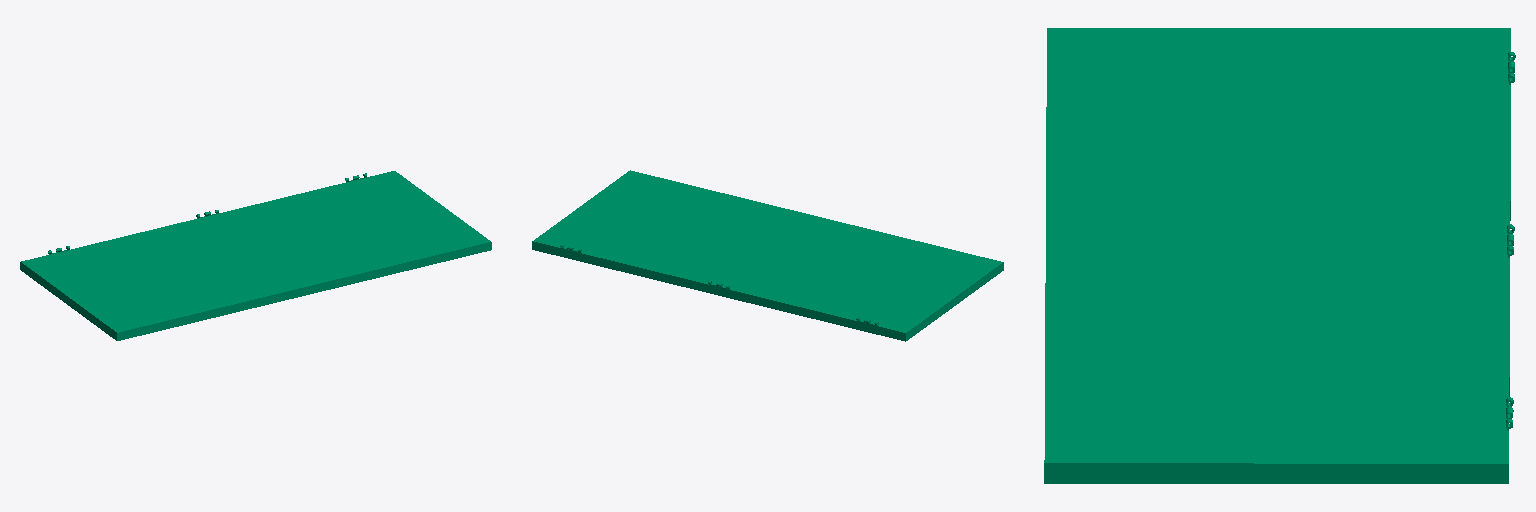
The robot description file, URDF, robot "door_test":
<robot name = 'door_test' xmlns:xacro="http://ros.org/wiki/xacro">
    <!-- <link name = 'world'/> -->
    
    <!-- <joint name = 'world2base' type = 'fixed'>
        <parent link = 'world'/>
        <child link = 'base_link'/>
    </joint> -->

    <link name = 'base_link'/>
        
    <joint name = 'base_joint' type = 'fixed'>
        <parent link = 'base_link'/>
        <origin xyz = '0 0.5 0.0' rpy='0 0 3.14'/>
        <!-- if move y : the door will slide -->
        <child link = 'door_frame'/>
    </joint>

    <link name = 'door_frame'>
        <visual>
            <geometry>
                <mesh filename = './meshes/frame.dae'/>
            </geometry>
            <origin xyz = '0.5 0 0' rpy = '1.57 0 0'/>
            <!-- <color rgba = '0.5 0.5 0.5 1.0'/> -->
        </visual>
        <!-- <collision name = "door frame_collision">
            <geometry>
                <mesh filename = './meshes/frame.dae'/>
                <origin xyz = '0.5 0 0' rpy = '1.57 0 0'/>
            </geometry>
        </collision> -->
        <collision name="side_1_:hinge_side">
            <geometry>
                <box size = '0.05029 0.06858 2.10820'/>
            </geometry>
            <origin xyz = '0.48 0.02 1.05' rpy = '0 0 0'/>
        </collision>
        <collision name="side_2">
            <geometry>
                <box size = '0.05029 0.06858 2.10820'/>
            </geometry>
            <origin xyz="0.48 1.02 1.05" rpy="0 0 0"/>
        </collision>
        <collision name="top">
            <geometry>
                <box size = '0.05029 0.92964 0.07366'/>
            </geometry>
            <origin xyz="0.48 0.52 2.05820" rpy="0 0 0"/>
        </collision>
        <inertial>
            <origin xyz="0 0 0" rpy="0 0 0"/>
            <mass value="10000.0"/>
            <inertia ixx="0.0" ixy="0.0" ixz="0.0" iyy="0.0" iyz="0.0" izz="0.0"/>
        </inertial>
    </link>

    <joint name = 'door_hinge' type = 'revolute'>
        <axis xyz = '0 0 1' rpy = '0 0 0 '/>
        <origin xyz = '0.432 0.06858 2.040'/>
        <limit lower = '0' upper = '1.57' effort='100' velocity="100.00"/>
        <dynamics damping="5.0" friction="0.005"/>
        <parent link = 'door_frame'/>
        <child link = 'door'/>
    </joint>

    <link name = 'door'>
        <visual>
            <geometry>
                <mesh filename = './meshes/door.dae'/>
            </geometry>
            <origin xyz = '-0.05 0 0' rpy = '-1.57 0 1.57'/>
            <color rgba = '0.5 0.5 0.5 1.0'/>
        </visual>
        <collision name="door_collision">
            <geometry>
                <mesh filename = './meshes/door.dae'/>
            </geometry>
            <origin xyz = '-0.05 0 0' rpy = '-1.57 0 1.57'/>
        </collision>
        <inertial>
            <origin xyz="0.4569 0.0349 1.016" rpy="0 0 0"/>
            <mass value="41.3256"/>
            <inertia ixx="14.2053" ixy="0.0004" ixz="0.0000" iyy="17.1997" iyz="0.0000" izz="3.0298"/>
        </inertial>
    </link>

    <joint name = 'door_handle' type = 'revolute'>
        <axis xyz = '1 0 0' rpy = '0 0 0 '/>
        <parent link = 'door'/>
        <origin xyz = '0.035 0.75 -1.0'/>
        <limit lower = '0' upper = '0.5236' effort='100' velocity="1000.00"/>
        <dynamics damping="0.0" friction="0.0"/>
        <child link = 'door_handles'/>
    </joint>

    <link name = 'door_handles'>
        <visual>
            <geometry>
                <mesh filename = './meshes/door_handle.dae'/>
            </geometry>
            <origin xyz = '0 0 0' rpy = '0 3.141592 1.57'/>
            <color rgba = '0.55 0.5 0.5 1.0'/>
        </visual>
        <visual>
            <geometry>
                <mesh filename = './meshes/door_handle.dae'/>
            </geometry>
            <origin xyz = '0.04 0 0' rpy = '0 0 -1.57'/>
             <color rgba = '0.5 0.5 0.5 1.0'/>
        </visual>
        <collision name="door_handles_collision">
            <geometry>
                <mesh filename="./meshes/door_handle.dae"/>
            </geometry>
            <origin xyz = '0 0 0' rpy = '0 3.141592 1.57'/>
        </collision>
        <collision name="door_handles_collision">
            <geometry>
                <mesh filename="./meshes/door_handle.dae"/>
            </geometry>
            <origin xyz = '0.045 0 0' rpy = '0 0 -1.57'/>
        </collision>
        <inertial>
            <origin xyz="0.0 0.0 0.0" rpy="3.14159 0 1.57"/>
            <mass value="1.0"/>
            <!-- <inertia ixx="14.2053" ixy="0.0004" ixz="0.0000" iyy="17.1997" iyz="0.0000" izz="3.0298"/> -->
        </inertial>
    </link>
    
    <joint name = 'handle2latch' type = 'fixed'>
        <parent link = 'door_handles'/>
        <child link = 'door_latch'/>
    </joint>

    <link name='door_latch'>
        <collision>
            <geometry>
                <box size='0.001 0.14 0.01'/>
            </geometry>
            <origin xyz = '0.043 0.1 0' rpy = '0 0 0'/>
        </collision>
    </link>
    <!-- <gazebo reference="world">
        <material>Gazebo/Red</material>
    </gazebo> -->

</robot>

--- What the picture shows (computed from the rendered views, not written in the file) ---
3 views of the same robot in one strip: view 1: azimuth 30°, elevation 25°; view 2: azimuth 150°, elevation 25°; view 3: azimuth 270°, elevation 25° (orthographic).
Model door_test with 5 links and 4 joints (2 revolute, 2 fixed), rooted at base_link, posed all joints at 0.
Visible links, largest first — view 1: door; view 2: door; view 3: door.
Link boxes in pixels (left/top/right/bottom): door: left=20, top=171, right=491, bottom=340; door: left=532, top=170, right=1003, bottom=341; door: left=1044, top=28, right=1515, bottom=483.
Size in the robot's own frame: 2.03 by 0.9272 by 0.0664 metres.
Meshes: 3 distinct files referenced, 1 mesh visuals loaded (1 Collada DAE); not drawn: 3 (reference not matched to a file when rendering).